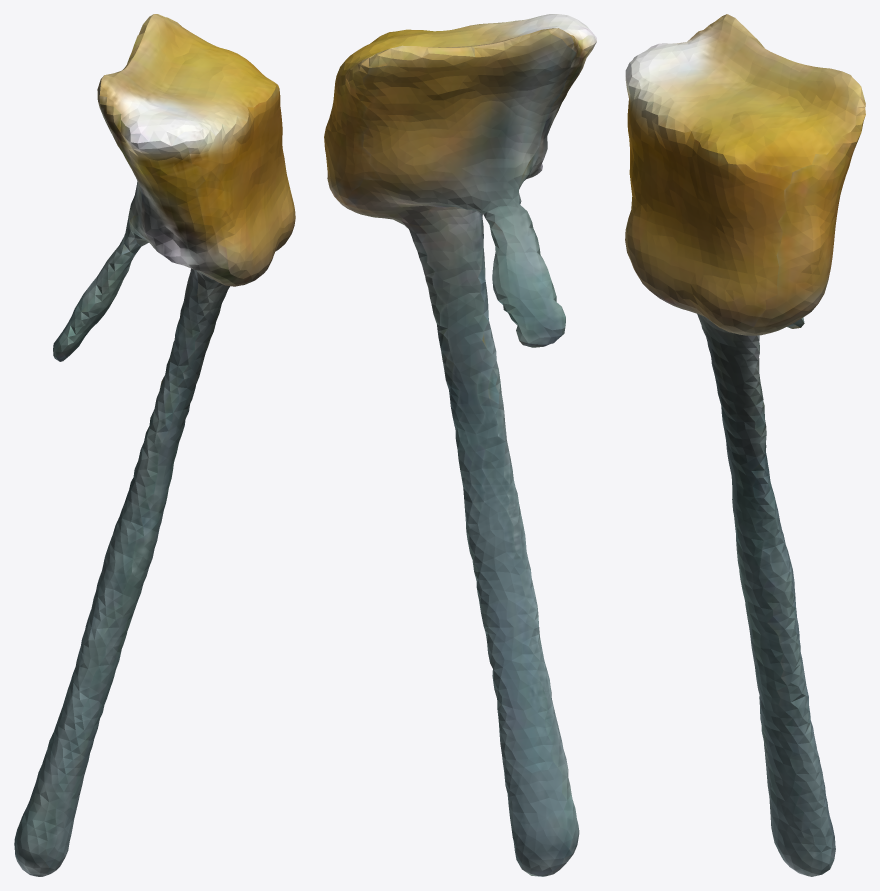
File: 20_chair.glb
3 views of the same model, side by side, from view 1: azimuth 30°, elevation 25°; view 2: azimuth 150°, elevation 25°; view 3: azimuth 270°, elevation 25° (orthographic). The views are drawn at different scales.
Parts seen in each view (by area): view 1: 20_chair; view 2: 20_chair; view 3: 20_chair.
Part boxes in pixels (x1,y1,x2,y2): 20_chair: [14, 14, 295, 876]; 20_chair: [324, 14, 596, 876]; 20_chair: [625, 14, 865, 876].
Size of the model in its own units: 0.2278 by 0.7094 by 0.1776.
1 material, 1 textured.
